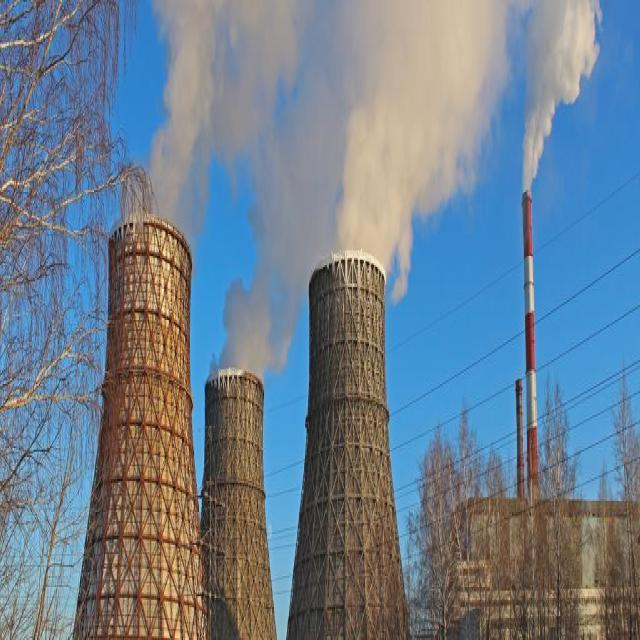Smoke: (148, 0, 603, 384)
